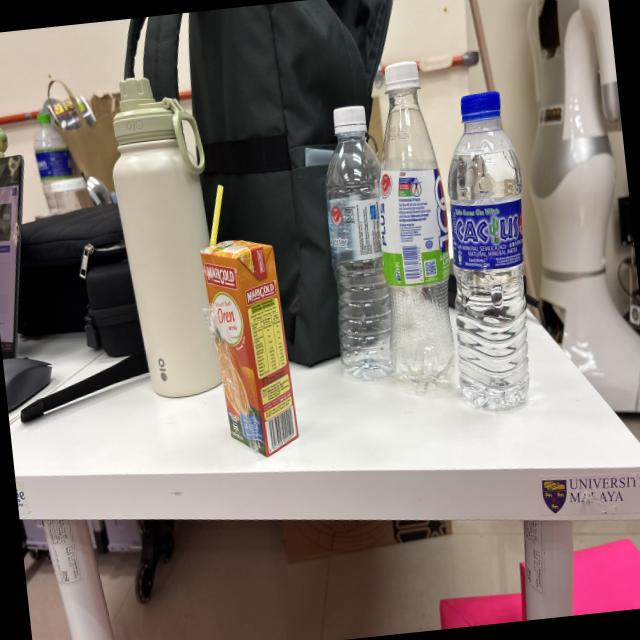drink_carton: (182, 173, 310, 466)
plastic_bottle: (417, 72, 553, 426), (355, 47, 472, 404), (312, 95, 412, 394)
